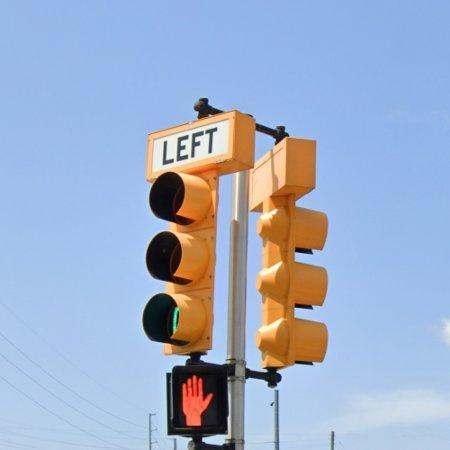traffic lights: (247, 130, 338, 379), (143, 167, 220, 356), (167, 357, 240, 450)
